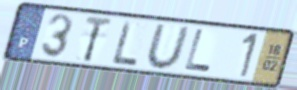1: (239, 32, 260, 80)
3: (39, 12, 75, 60)
L: (111, 19, 140, 68), (183, 28, 213, 75)
T: (81, 14, 115, 64)
U: (145, 23, 192, 71)
